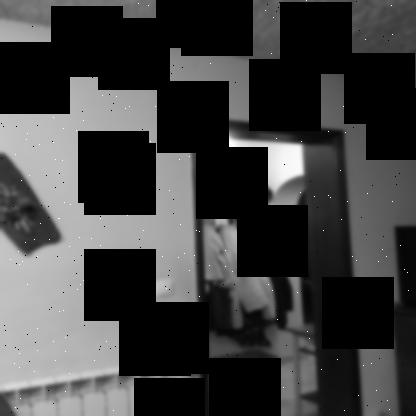Porte: (192, 115, 362, 416)
